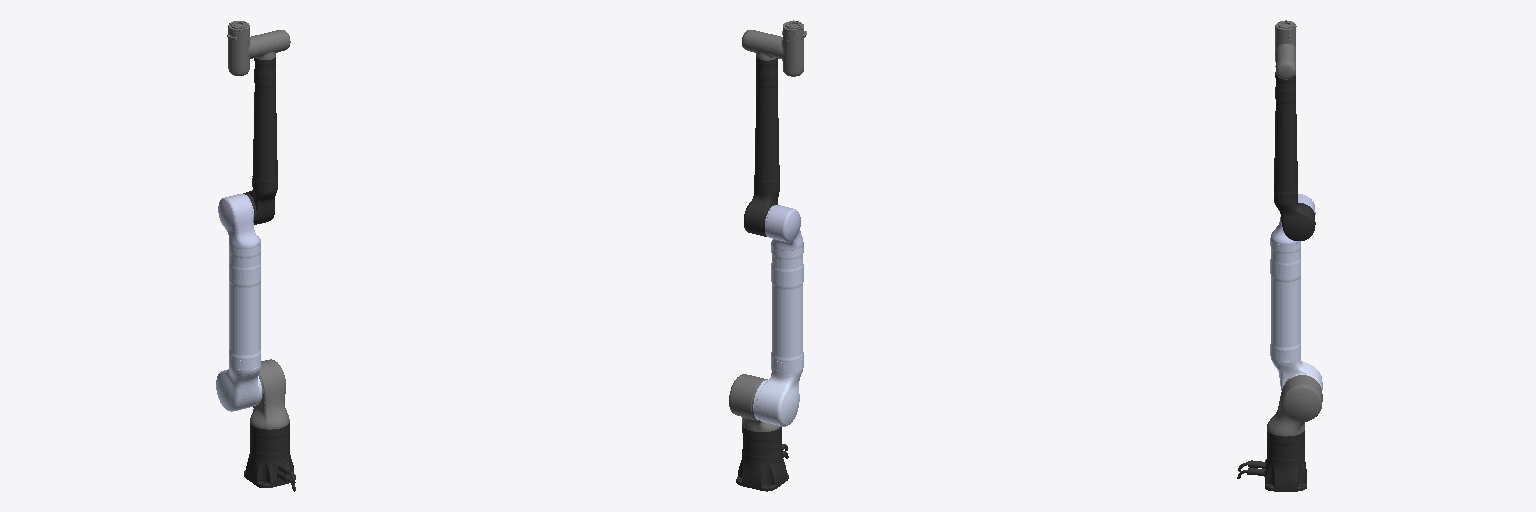
URDF robot description (kr1410):
<?xml version="1.0" ?>
<!-- =================================================================================== -->
<!-- |    This document was autogenerated by xacro from kr1410_macro.xacro             | -->
<!-- |    EDITING THIS FILE BY HAND IS NOT RECOMMENDED                                 | -->
<!-- =================================================================================== -->
<robot name="kr1410">
  <!-- Author: [author] -->
  <link name="base_link_1">
    <inertial>
      <origin rpy="0 0 0" xyz="-7.4738E-07 -0.0025261 0.10578"/>
      <mass value="4.1962"/>
      <inertia ixx="0.0097664" ixy="-2.7713E-06" ixz="-6.4429E-08" iyy="0.0097383" iyz="2.8724E-06" izz="0.01208"/>
    </inertial>
    <visual>
      <origin rpy="0 0 0" xyz="0 0 0"/>
      <geometry>
        <mesh filename="package://pkg_kassowa_robot/meshes/visual/base_link_1.dae"/>
      </geometry>
      <material name="">
        <color rgba="0.25098 0.25098 0.25098 1"/>
      </material>
    </visual>
    <collision>
      <origin rpy="0 0 0" xyz="0 0 0"/>
      <geometry>
        <mesh filename="package://pkg_kassowa_robot/meshes/collision/base_link_1.STL"/>
      </geometry>
    </collision>
  </link>
  <link name="link_1">
    <inertial>
      <origin rpy="0 0 0" xyz="0.012459 0.043509 0.10073"/>
      <mass value="3.0192"/>
      <inertia ixx="0.015663" ixy="-0.00040133" ixz="-0.00064388" iyy="0.012554" iyz="-0.0035217" izz="0.0094056"/>
    </inertial>
    <visual>
      <origin rpy="0 0 0" xyz="0 0 0"/>
      <geometry>
        <mesh filename="package://pkg_kassowa_robot/meshes/visual/link_1.dae"/>
      </geometry>
      <material name="">
        <color rgba="0.50196 0.50196 0.50196 1"/>
      </material>
    </visual>
    <collision>
      <origin rpy="0 0 0" xyz="0 0 0"/>
      <geometry>
        <mesh filename="package://pkg_kassowa_robot/meshes/collision/link_1.STL"/>
      </geometry>
    </collision>
  </link>
  <joint name="joint_1" type="revolute">
    <origin rpy="0 0 0" xyz="0 0 0.2272"/>
    <parent link="base_link_1"/>
    <child link="link_1"/>
    <axis xyz="0 0 1"/>
    <limit effort="150.0" lower="-3.1416" upper="3.1416" velocity="3.927"/>
    <dynamics damping="0" friction="0"/>
  </joint>
  <link name="link_2">
    <inertial>
      <origin rpy="0 0 0" xyz="-0.044962 -0.2486 0.062961"/>
      <mass value="8.0381"/>
      <inertia ixx="0.045397" ixy="-0.0027682" ixz="9.7935E-05" iyy="0.016757" iyz="0.00018387" izz="0.048264"/>
    </inertial>
    <visual>
      <origin rpy="0 0 0" xyz="0 0 0"/>
      <geometry>
        <mesh filename="package://pkg_kassowa_robot/meshes/visual/link_2.dae"/>
      </geometry>
      <material name="">
        <color rgba="0.86667 0.90588 1 1"/>
      </material>
    </visual>
    <collision>
      <origin rpy="0 0 0" xyz="0 0 0"/>
      <geometry>
        <mesh filename="package://pkg_kassowa_robot/meshes/collision/link_2.STL"/>
      </geometry>
    </collision>
  </link>
  <joint name="joint_2" type="revolute">
    <origin rpy="-1.5708 0 1.5708" xyz="-0.0405 0.062 0.13"/>
    <parent link="link_1"/>
    <child link="link_2"/>
    <axis xyz="0 0 -1"/>
    <limit effort="150.0" lower="-1.2217" upper="3.1416" velocity="3.927"/>
    <dynamics damping="0" friction="0"/>
  </joint>
  <link name="link_3">
    <inertial>
      <origin rpy="0 0 0" xyz="-0.010057 0.034551 0.080854"/>
      <mass value="1.5966"/>
      <inertia ixx="0.0054385" ixy="0.00013345" ixz="0.00023101" iyy="0.0043549" iyz="-0.0012411" izz="0.0032789"/>
    </inertial>
    <visual>
      <origin rpy="0 0 0" xyz="0 0 0"/>
      <geometry>
        <mesh filename="package://pkg_kassowa_robot/meshes/visual/link_3.dae"/>
      </geometry>
      <material name="">
        <color rgba="0.79216 0.81961 0.93333 1"/>
      </material>
    </visual>
    <collision>
      <origin rpy="0 0 0" xyz="0 0 0"/>
      <geometry>
        <mesh filename="package://pkg_kassowa_robot/meshes/collision/link_3.STL"/>
      </geometry>
    </collision>
  </link>
  <joint name="joint_3" type="revolute">
    <origin rpy="1.5708 1.5708 0" xyz="-0.062 -0.6175 0.0647"/>
    <parent link="link_2"/>
    <child link="link_3"/>
    <axis xyz="0 0 1"/>
    <limit effort="150.0" lower="-3.1416" upper="3.1416" velocity="3.927"/>
    <dynamics damping="0" friction="0"/>
  </joint>
  <link name="link_4">
    <inertial>
      <origin rpy="0 0 0" xyz="-0.036947 -0.23777 -0.051725"/>
      <mass value="4.4818"/>
      <inertia ixx="0.036251" ixy="-0.00092868" ixz="-2.0678E-05" iyy="0.0053736" iyz="-4.2282E-05" izz="0.037294"/>
    </inertial>
    <visual>
      <origin rpy="0 0 0" xyz="0 0 0"/>
      <geometry>
        <mesh filename="package://pkg_kassowa_robot/meshes/visual/link_4.dae"/>
      </geometry>
      <material name="">
        <color rgba="0.25098 0.25098 0.25098 1"/>
      </material>
    </visual>
    <collision>
      <origin rpy="0 0 0" xyz="0 0 0"/>
      <geometry>
        <mesh filename="package://pkg_kassowa_robot/meshes/collision/link_4.STL"/>
      </geometry>
    </collision>
  </link>
  <joint name="joint_4" type="revolute">
    <origin rpy="-1.5708 0 1.5708" xyz="0.0325 0.05 0.105"/>
    <parent link="link_3"/>
    <child link="link_4"/>
    <axis xyz="0 0 1"/>
    <limit effort="150.0" lower="-1.2217" upper="3.1416" velocity="3.927"/>
    <dynamics damping="0" friction="0"/>
  </joint>
  <link name="link_5">
    <inertial>
      <origin rpy="0 0 0" xyz="0.015982 4.9455E-08 0.043633"/>
      <mass value="0.76365"/>
      <inertia ixx="0.00066763" ixy="-2.6599E-09" ixz="8.4155E-06" iyy="0.00080379" iyz="-9.3021E-10" izz="0.00075782"/>
    </inertial>
    <visual>
      <origin rpy="0 0 0" xyz="0 0 0"/>
      <geometry>
        <mesh filename="package://pkg_kassowa_robot/meshes/visual/link_5.dae"/>
      </geometry>
      <material name="">
        <color rgba="0.50196 0.50196 0.50196 1"/>
      </material>
    </visual>
    <collision>
      <origin rpy="0 0 0" xyz="0 0 0"/>
      <geometry>
        <mesh filename="package://pkg_kassowa_robot/meshes/collision/link_5.STL"/>
      </geometry>
    </collision>
  </link>
  <joint name="joint_5" type="revolute">
    <origin rpy="1.5708 1.5708 0" xyz="-0.05 -0.631 -0.0532"/>
    <parent link="link_4"/>
    <child link="link_5"/>
    <axis xyz="0 0 1"/>
    <limit effort="28.0" lower="-3.1416" upper="3.1416" velocity="3.927"/>
    <dynamics damping="0" friction="0"/>
  </joint>
  <link name="link_6">
    <inertial>
      <origin rpy="0 0 0" xyz="-4.9555E-08 -0.016138 -0.043627"/>
      <mass value="0.76211"/>
      <inertia ixx="0.00080256" ixy="-2.6599E-09" ixz="-9.3021E-10" iyy="0.00066523" iyz="8.4155E-06" izz="0.00075659"/>
    </inertial>
    <visual>
      <origin rpy="0 0 0" xyz="0 0 0"/>
      <geometry>
        <mesh filename="package://pkg_kassowa_robot/meshes/visual/link_6.dae"/>
      </geometry>
      <material name="">
        <color rgba="0.50196 0.50196 0.50196 1"/>
      </material>
    </visual>
    <collision>
      <origin rpy="0 0 0" xyz="0 0 0"/>
      <geometry>
        <mesh filename="package://pkg_kassowa_robot/meshes/collision/link_6.STL"/>
      </geometry>
    </collision>
  </link>
  <joint name="joint_6" type="revolute">
    <origin rpy="1.5708 0 1.5708" xyz="-0.0645 0 0.0465"/>
    <parent link="link_5"/>
    <child link="link_6"/>
    <axis xyz="0 0 -1"/>
    <limit effort="28.0" lower="-3.1416" upper="3.1416" velocity="3.927"/>
    <dynamics damping="0" friction="0"/>
  </joint>
  <link name="tool_io">
    <inertial>
      <origin rpy="0 0 0" xyz="-0.00026943 -0.00014925 0.028118"/>
      <mass value="0.22852"/>
      <inertia ixx="0.00010445" ixy="9.8149E-07" ixz="-9.1736E-08" iyy="0.00010267" iyz="-1.6431E-08" izz="0.00017436"/>
    </inertial>
    <visual>
      <origin rpy="0 0 0" xyz="0 0 0"/>
      <geometry>
        <mesh filename="package://pkg_kassowa_robot/meshes/visual/tool_io.dae"/>
      </geometry>
      <material name="">
        <color rgba="0.50196 0.50196 0.50196 1"/>
      </material>
    </visual>
    <collision>
      <origin rpy="0 0 0" xyz="0 0 0"/>
      <geometry>
        <mesh filename="package://pkg_kassowa_robot/meshes/collision/tool_io.STL"/>
      </geometry>
    </collision>
  </link>
  <joint name="joint_tool_io" type="revolute">
    <origin rpy="1.5708 -1.5708 3.14" xyz="0 0.053 -0.0465"/>
    <parent link="link_6"/>
    <child link="tool_io"/>
    <axis xyz="0 0 1"/>
    <limit effort="28.0" lower="-3.1416" upper="3.1416" velocity="3.927"/>
    <dynamics damping="0" friction="0"/>
  </joint>
  <!-- Author: [author] -->
  <transmission name="joint_1_trans">
    <type>transmission_interface/SimpleTransmission</type>
    <joint name="joint_1">
      <hardwareInterface>hardware_interface/PositionJointInterface</hardwareInterface>
    </joint>
    <actuator name="joint_1_motor">
      <mechanicalReduction>1.0</mechanicalReduction>
    </actuator>
  </transmission>
  <transmission name="joint_2_trans">
    <type>transmission_interface/SimpleTransmission</type>
    <joint name="joint_2">
      <hardwareInterface>hardware_interface/PositionJointInterface</hardwareInterface>
    </joint>
    <actuator name="joint_2_motor">
      <mechanicalReduction>1.0</mechanicalReduction>
    </actuator>
  </transmission>
  <transmission name="joint_3_trans">
    <type>transmission_interface/SimpleTransmission</type>
    <joint name="joint_3">
      <hardwareInterface>hardware_interface/PositionJointInterface</hardwareInterface>
    </joint>
    <actuator name="joint_3_motor">
      <mechanicalReduction>1.0</mechanicalReduction>
    </actuator>
  </transmission>
  <transmission name="joint_4_trans">
    <type>transmission_interface/SimpleTransmission</type>
    <joint name="joint_4">
      <hardwareInterface>hardware_interface/PositionJointInterface</hardwareInterface>
    </joint>
    <actuator name="joint_4_motor">
      <mechanicalReduction>1.0</mechanicalReduction>
    </actuator>
  </transmission>
  <transmission name="joint_5_trans">
    <type>transmission_interface/SimpleTransmission</type>
    <joint name="joint_5">
      <hardwareInterface>hardware_interface/PositionJointInterface</hardwareInterface>
    </joint>
    <actuator name="joint_5_motor">
      <mechanicalReduction>1.0</mechanicalReduction>
    </actuator>
  </transmission>
  <transmission name="joint_6_trans">
    <type>transmission_interface/SimpleTransmission</type>
    <joint name="joint_6">
      <hardwareInterface>hardware_interface/PositionJointInterface</hardwareInterface>
    </joint>
    <actuator name="joint_6_motor">
      <mechanicalReduction>1.0</mechanicalReduction>
    </actuator>
  </transmission>
  <transmission name="joint_tool_io_trans">
    <type>transmission_interface/SimpleTransmission</type>
    <joint name="joint_tool_io">
      <hardwareInterface>hardware_interface/PositionJointInterface</hardwareInterface>
    </joint>
    <actuator name="joint_tool_io_motor">
      <mechanicalReduction>1.0</mechanicalReduction>
    </actuator>
  </transmission>
  <!-- Author: [author] -->
  <!-- Configure self collision properties per link -->
  <gazebo reference="base_link_1">
    <selfCollide>true</selfCollide>
  </gazebo>
  <!-- Configure self collision properties per link -->
  <gazebo reference="link_1">
    <selfCollide>true</selfCollide>
  </gazebo>
  <!-- Configure self collision properties per link -->
  <gazebo reference="link_2">
    <selfCollide>true</selfCollide>
  </gazebo>
  <!-- Configure self collision properties per link -->
  <gazebo reference="link_3">
    <selfCollide>true</selfCollide>
  </gazebo>
  <!-- Configure self collision properties per link -->
  <gazebo reference="link_4">
    <selfCollide>true</selfCollide>
  </gazebo>
  <!-- Configure self collision properties per link -->
  <gazebo reference="link_5">
    <selfCollide>true</selfCollide>
  </gazebo>
  <!-- Configure self collision properties per link -->
  <gazebo reference="link_6">
    <selfCollide>true</selfCollide>
  </gazebo>
  <!-- Configure self collision properties per link -->
  <gazebo reference="tool_io">
    <selfCollide>true</selfCollide>
  </gazebo>
  <gazebo>
    <plugin filename="libgazebo_ros_control.so" name="ros_control">
      <!--robotNamespace>/</robotNamespace-->
      <!--robotSimType>gazebo_ros_control/DefaultRobotHWSim</robotSimType-->
    </plugin>
  </gazebo>
  <!-- Define the kr1410 robot position and orientation in the world coordinate system -->
  <link name="world"/>
  <joint name="world_joint" type="fixed">
    <parent link="world"/>
    <child link="base_link"/>
    <origin rpy="0.0 0.0 0.0" xyz="0.0 0.0 0.0"/>
  </joint>
  <!-- Create a dummy link base_link -->
  <link name="base_link"/>
  <joint name="base_link_joint" type="fixed">
    <parent link="base_link"/>
    <child link="base_link_1"/>
    <origin rpy="0 0 0" xyz="0 0 0"/>
  </joint>
  <!-- Create end effector link -->
  <link name="ee_link"/>
  <joint name="ee_joint" type="fixed">
    <parent link="tool_io"/>
    <child link="ee_link"/>
    <origin rpy="0 0 0" xyz="0 0 0.05"/>
  </joint>
</robot>

--- What the picture shows (computed from the rendered views, not written in the file) ---
The picture shows the robot from 3 angles, left to right: view 1: azimuth 30°, elevation 25°; view 2: azimuth 150°, elevation 25°; view 3: azimuth 270°, elevation 25°; orthographic projection.
Model kr1410 with 11 links and 10 joints (7 revolute, 3 fixed), rooted at world, posed every joint at zero.
Links seen in each view (by area): view 1: link_2, link_4, base_link_1, link_1, link_3, link_5, link_6; view 2: link_2, link_4, base_link_1, link_3, link_1, link_5, link_6; view 3: link_2, link_4, base_link_1, link_1, link_5.
Boxes of the visible links, x1,y1,x2,y2 form: link_2: [216, 244, 261, 411]; link_4: [243, 57, 277, 224]; base_link_1: [244, 423, 295, 491]; link_1: [250, 359, 289, 429]; link_3: [218, 194, 260, 248]; link_5: [250, 30, 290, 59]; link_6: [228, 37, 254, 75]; link_2: [753, 245, 803, 426]; link_4: [744, 57, 779, 236]; base_link_1: [736, 424, 788, 491]; link_3: [765, 205, 803, 250]; link_1: [729, 374, 781, 431]; link_5: [742, 30, 782, 60]; link_6: [777, 38, 803, 76]; link_2: [1270, 239, 1322, 390]; link_4: [1274, 73, 1315, 240]; base_link_1: [1237, 431, 1306, 491]; link_1: [1267, 375, 1322, 436]; link_5: [1275, 45, 1295, 79].
Size in the robot's own frame: 0.2606 by 0.3244 by 1.87 metres.
8 mesh visuals loaded from 8 distinct referenced files (8 Collada DAE).
